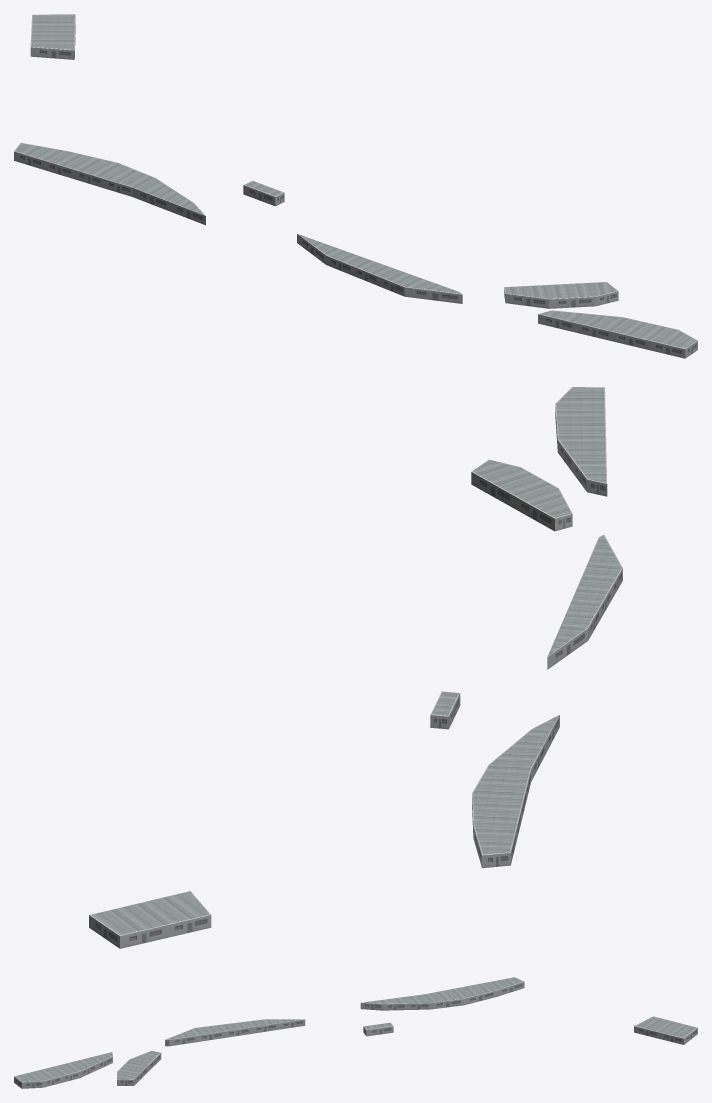
3 views of the same model, one above another, from view 1: azimuth 30°, elevation 25°; view 2: azimuth 150°, elevation 25°; view 3: azimuth 270°, elevation 25° (orthographic). The views are drawn at different scales.
Parts seen in each view (by area): view 1: SheetRoof, ServiceWall, Coping; view 2: SheetRoof, ServiceWall, Coping; view 3: SheetRoof, ServiceWall, Coping.
Part boxes in pixels (<box>): SheetRoof: <box>15,14,696,348</box>; ServiceWall: <box>14,25,697,358</box>; Coping: <box>14,14,697,349</box>; SheetRoof: <box>91,387,621,935</box>; ServiceWall: <box>89,407,622,948</box>; Coping: <box>89,387,622,936</box>; SheetRoof: <box>15,977,696,1081</box>; ServiceWall: <box>14,982,697,1088</box>; Coping: <box>14,977,697,1082</box>.
Size of the model in its own units: 107 by 3.12 by 294.
3 materials, 2 textured.
